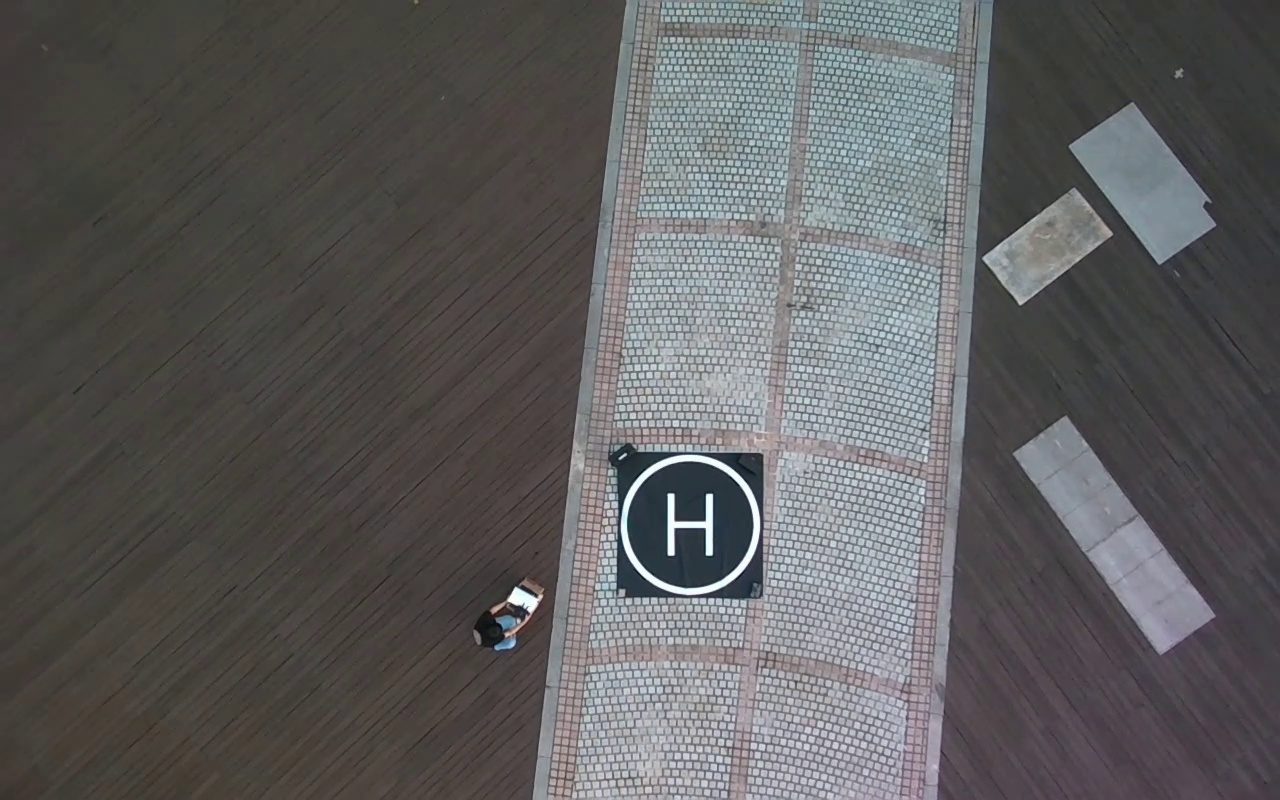H: (666, 489, 714, 555)
heliport: (620, 452, 760, 594)
